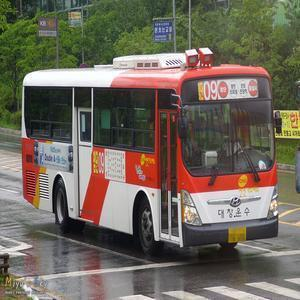backdoor: (57, 90, 99, 217)
frontdoor: (151, 84, 189, 249)
